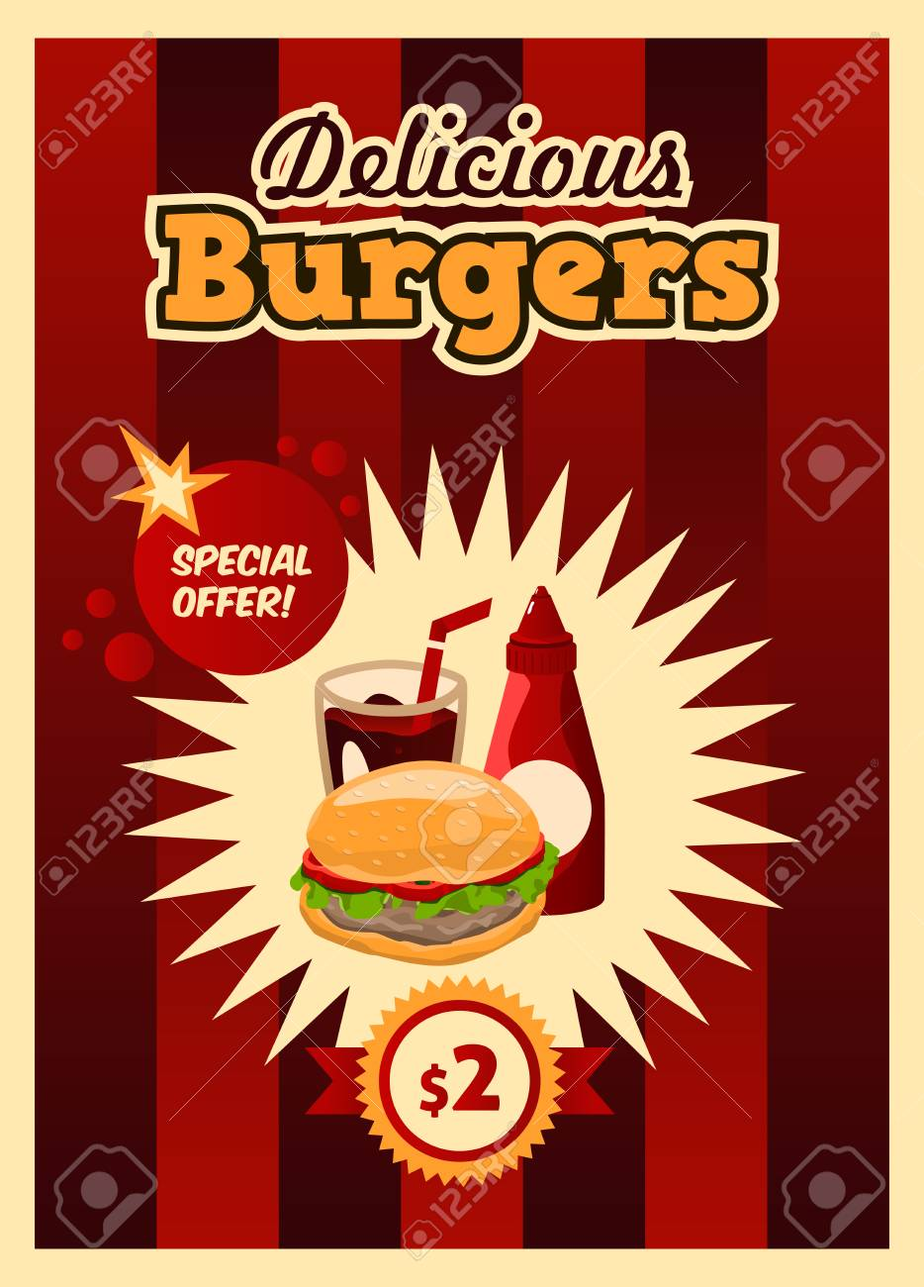Headline: (146, 109, 777, 341)
Price: (418, 1037, 504, 1120)
Product: (319, 601, 609, 965)
